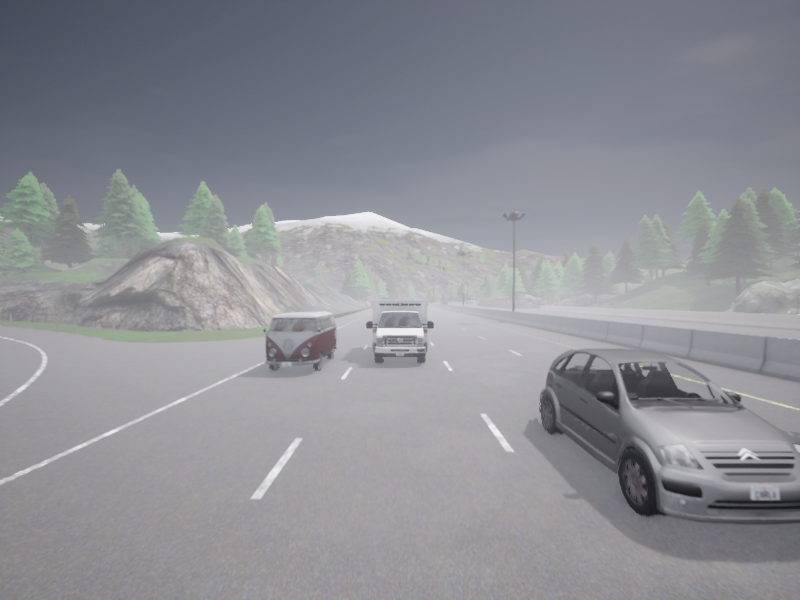vehicle: (539, 349, 799, 523), (263, 311, 336, 371), (366, 300, 433, 364), (466, 297, 476, 303), (440, 297, 447, 304)
